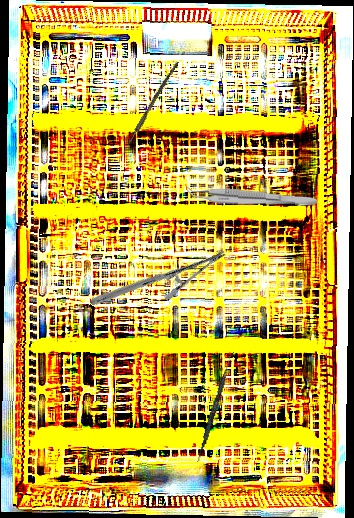Needle Holder: (89, 206, 227, 350)
Spatula Surgical: (196, 350, 234, 464)
Surgical Spoon: (120, 60, 179, 157)
Tissue Forceps: (186, 184, 318, 208)
